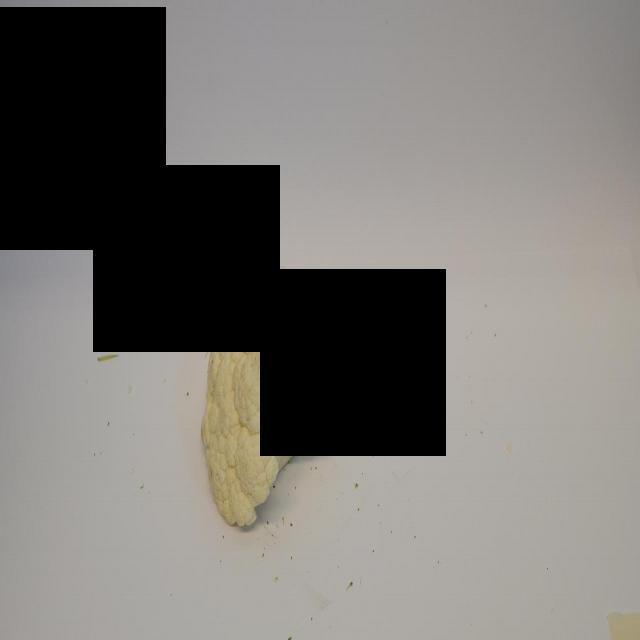cauliflower: (196, 256, 338, 541)
